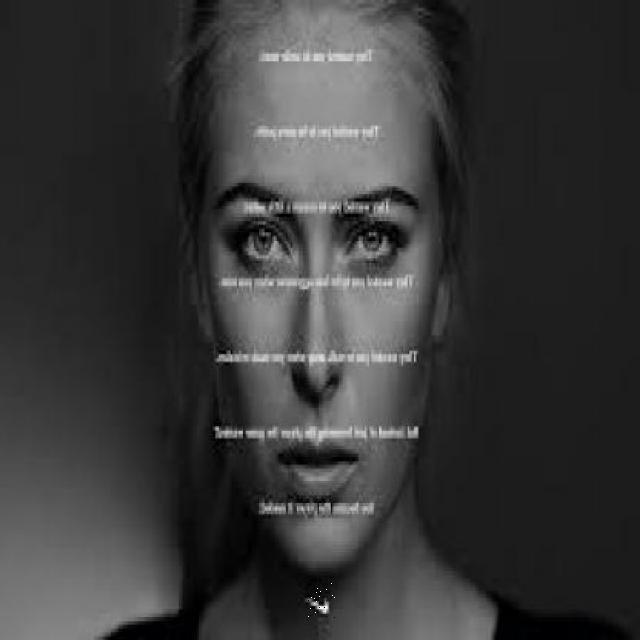Nike: (307, 582, 335, 618)
